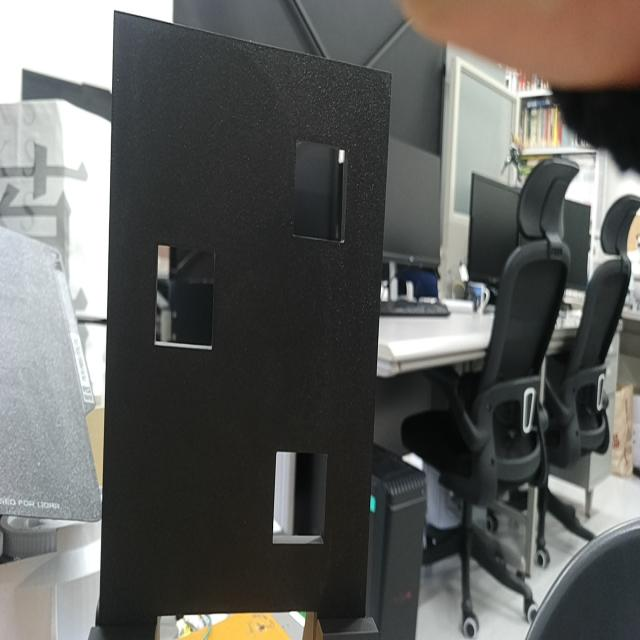Obstacle: (155, 245, 215, 347), (295, 144, 349, 242), (272, 450, 328, 544)
Wall: (99, 12, 389, 614)
